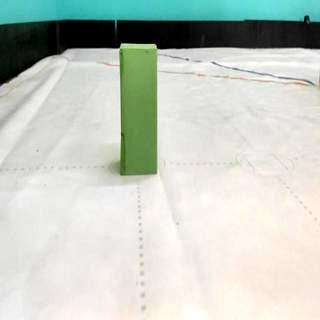greenbox: (118, 42, 160, 176)
